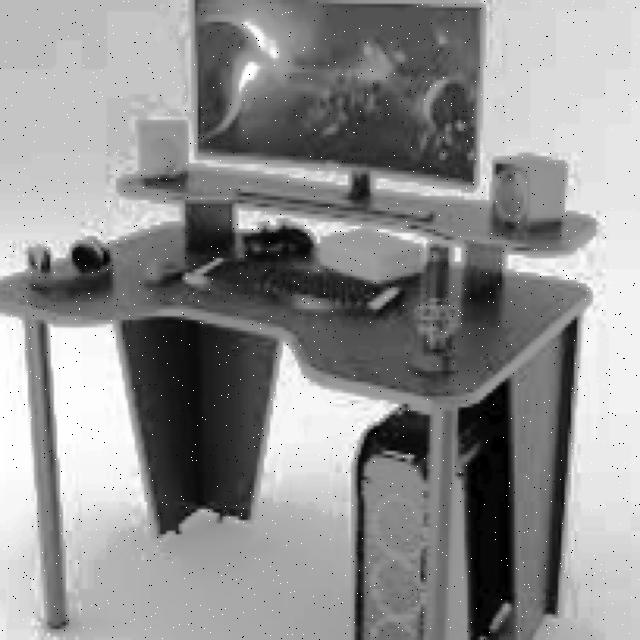table: (0, 196, 599, 640)
